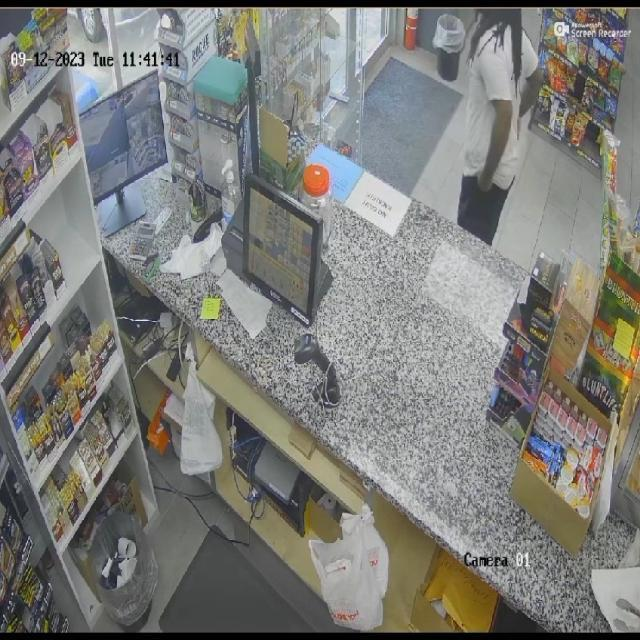Normal: (440, 6, 550, 248)
